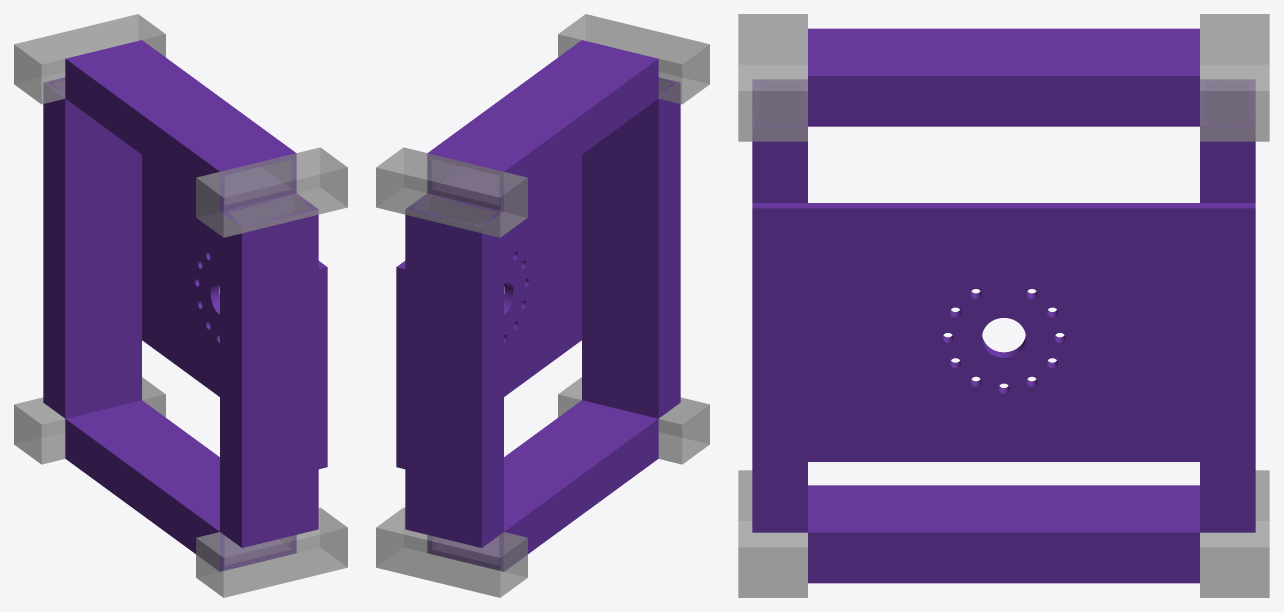
The picture shows the model from 3 angles, left to right: view 1: azimuth 30°, elevation 25°; view 2: azimuth 150°, elevation 25°; view 3: azimuth 270°, elevation 25°; orthographic projection. The views are drawn at different scales.
Visible parts, largest first — view 1: 0207 - perfil 6" (×2), 0206 - perfil 7" (×2), 205 - Elevator Bearing mock (×4), 0208 - Placa Carriage; view 2: 0207 - perfil 6" (×2), 0206 - perfil 7" (×2), 205 - Elevator Bearing mock (×4), 0208 - Placa Carriage; view 3: 0208 - Placa Carriage, 0206 - perfil 7" (×2), 205 - Elevator Bearing mock (×4), 0207 - perfil 6" (×2).
Part boxes in pixels (x1=…): 0207 - perfil 6" (×2): x1=43, y1=77, x2=318, y2=547; 0206 - perfil 7" (×2): x1=65, y1=40, x2=296, y2=571; 205 - Elevator Bearing mock (×4): x1=14, y1=14, x2=347, y2=597; 0208 - Placa Carriage: x1=142, y1=155, x2=327, y2=469; 0207 - perfil 6" (×2): x1=405, y1=77, x2=680, y2=547; 0206 - perfil 7" (×2): x1=427, y1=40, x2=658, y2=571; 205 - Elevator Bearing mock (×4): x1=376, y1=14, x2=709, y2=597; 0208 - Placa Carriage: x1=396, y1=155, x2=581, y2=469; 0208 - Placa Carriage: x1=752, y1=203, x2=1255, y2=461; 0206 - perfil 7" (×2): x1=808, y1=28, x2=1199, y2=583; 205 - Elevator Bearing mock (×4): x1=738, y1=14, x2=1269, y2=597; 0207 - perfil 6" (×2): x1=752, y1=79, x2=1255, y2=532.
Bounding box in the file's own units: 0.0825 × 0.254 × 0.2413.
